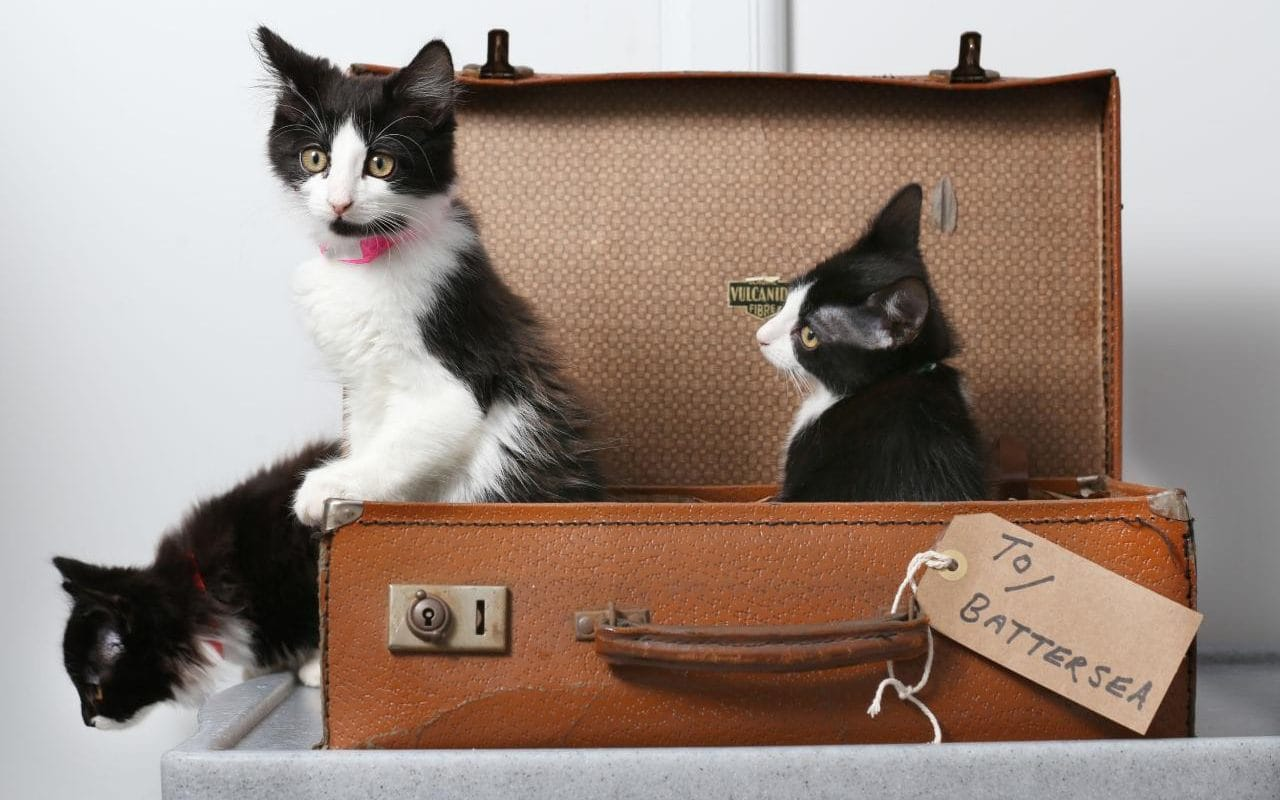cat: (248, 36, 606, 504), (52, 462, 353, 730), (747, 224, 1015, 508)
